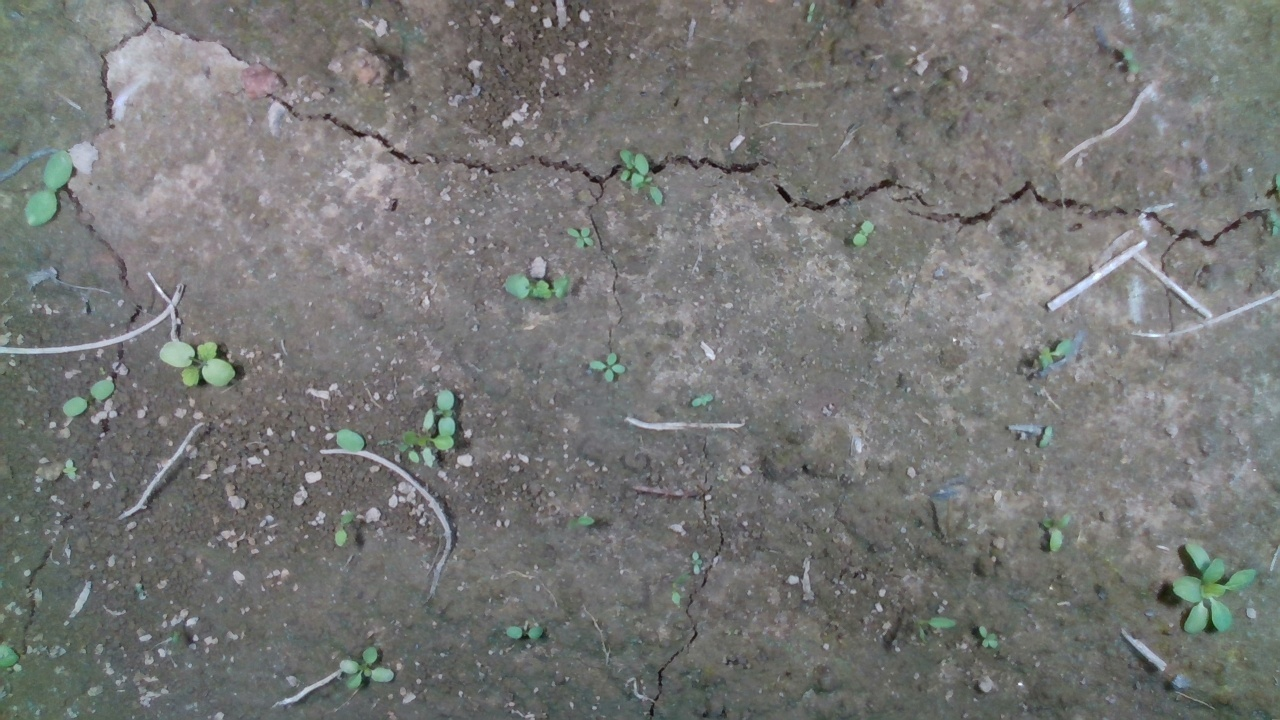weed: (22, 147, 73, 227), (158, 339, 235, 390), (338, 644, 396, 690), (59, 377, 116, 419), (585, 352, 627, 383), (564, 226, 595, 251), (504, 624, 545, 642), (853, 218, 876, 247), (977, 624, 999, 649)
